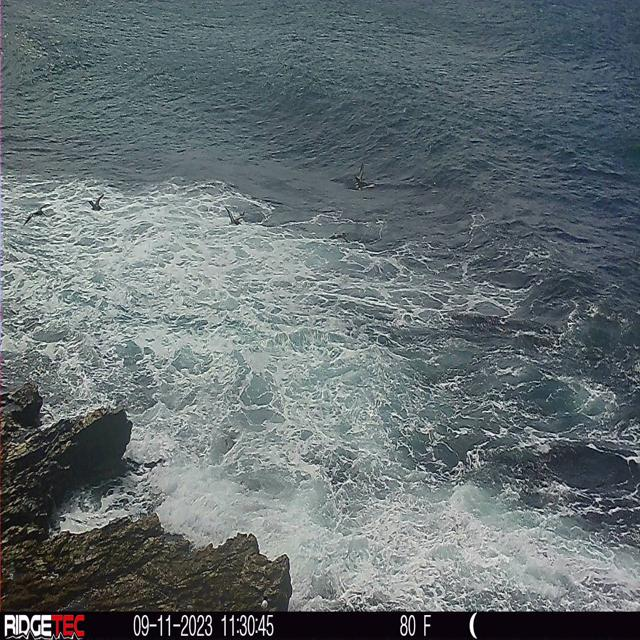bird: (224, 205, 245, 225)
